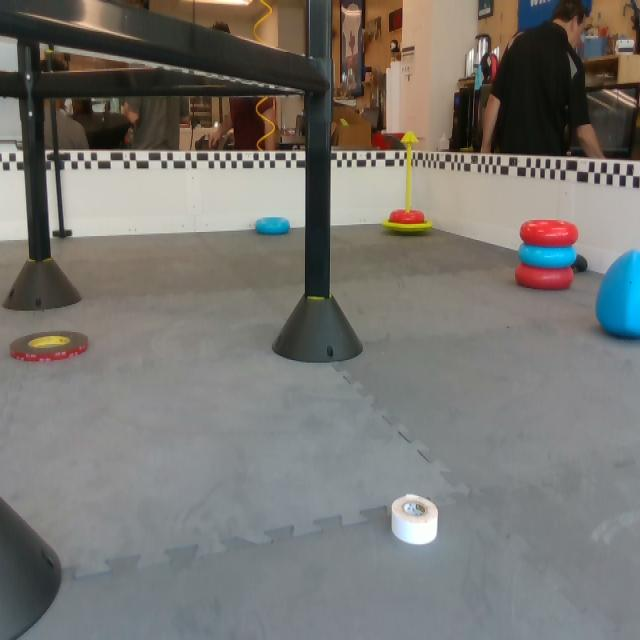Blue-Ring: (519, 244, 578, 268), (251, 219, 292, 236)
Mobile-Goal: (380, 130, 434, 234)
Red-Ring: (516, 262, 573, 291), (520, 219, 578, 245), (391, 210, 424, 223)
Yellow-Stake-Head: (401, 132, 419, 144)
